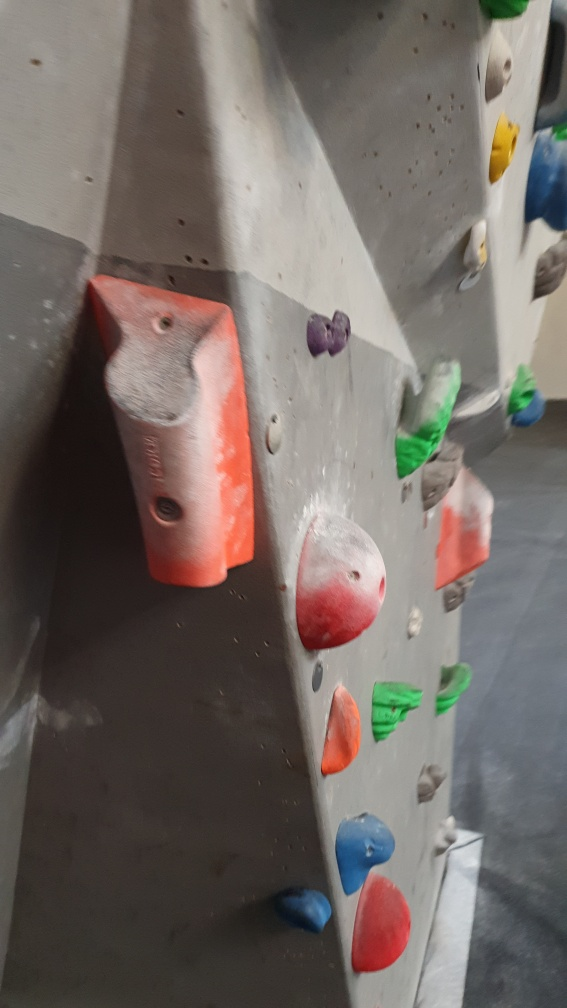Hand Start: (261, 403, 285, 456), (307, 650, 327, 691)
Jug: (396, 353, 459, 480), (372, 679, 427, 745), (434, 655, 475, 720)
Pinch: (88, 268, 261, 594)
Sloper: (290, 511, 388, 653), (349, 871, 416, 974)
